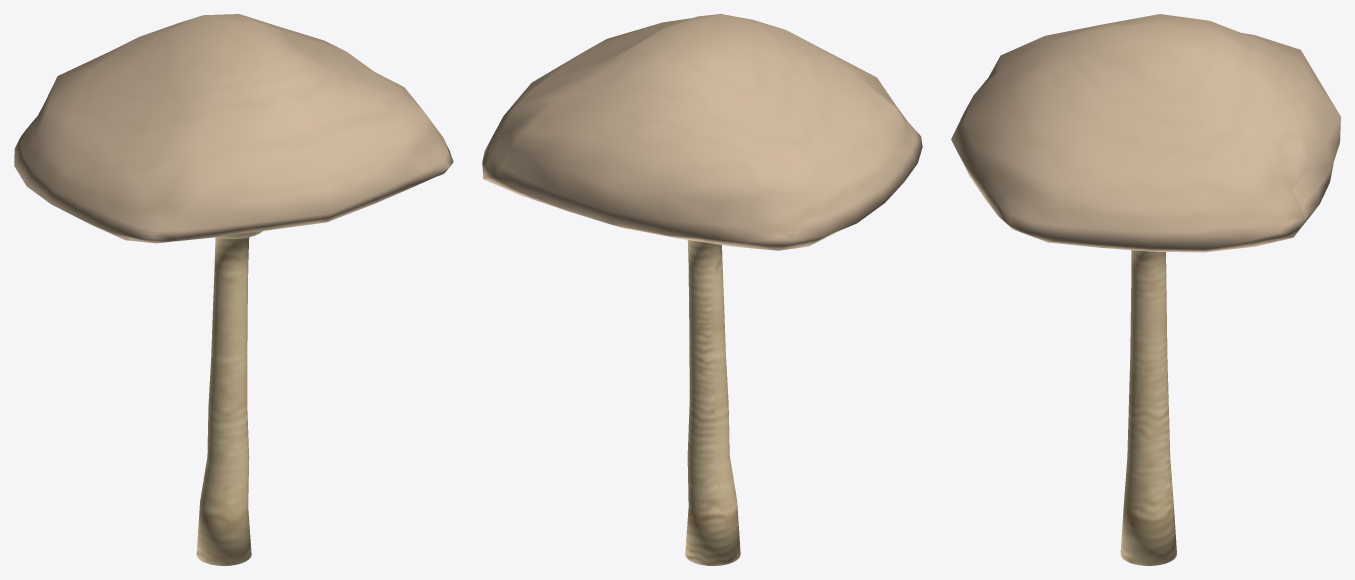
File: ParasolMushroom.fbx
The picture shows the model from 3 angles, left to right: view 1: azimuth 30°, elevation 25°; view 2: azimuth 150°, elevation 25°; view 3: azimuth 270°, elevation 25°; orthographic projection. The views are drawn at different scales.
Visible parts, largest first — view 1: Cube.001, Cylinder; view 2: Cube.001, Cylinder; view 3: Cube.001, Cylinder.
Boxes of the visible parts, x1,y1,x2,y2 form: Cube.001: (14, 14, 453, 243); Cylinder: (196, 231, 262, 565); Cube.001: (482, 14, 922, 250); Cylinder: (685, 240, 740, 565); Cube.001: (951, 14, 1340, 252); Cylinder: (1120, 250, 1176, 565).
Bounding box in the file's own units: 3.13 × 2.83 × 4.3.
Materials: 2 (2 with a texture image).
